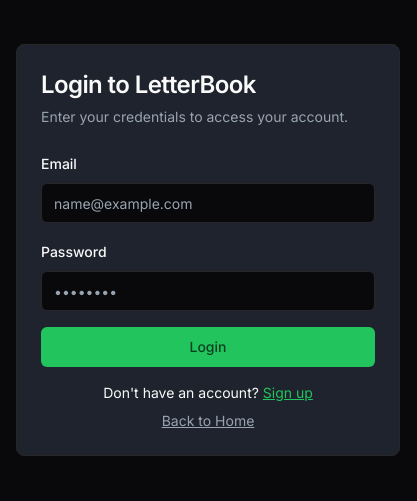
Test: LoginPage › validates invalid email
Type "invalid-email" into the field labelled "Email" at (208, 203), box [41,183,375,223]
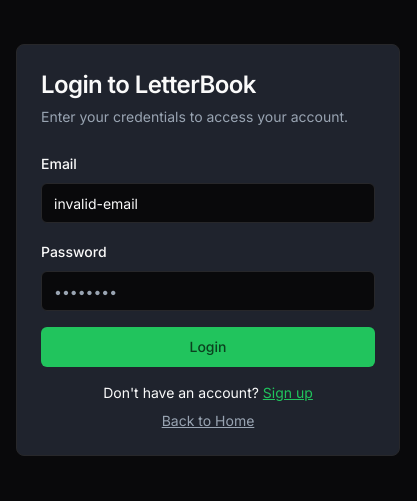
Click the button "Login" at (208, 347), box [41,327,375,367]
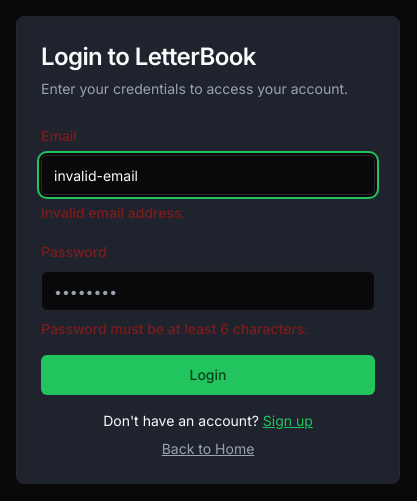
Now the text "Invalid email address." is shown, box [41,204,186,221]
